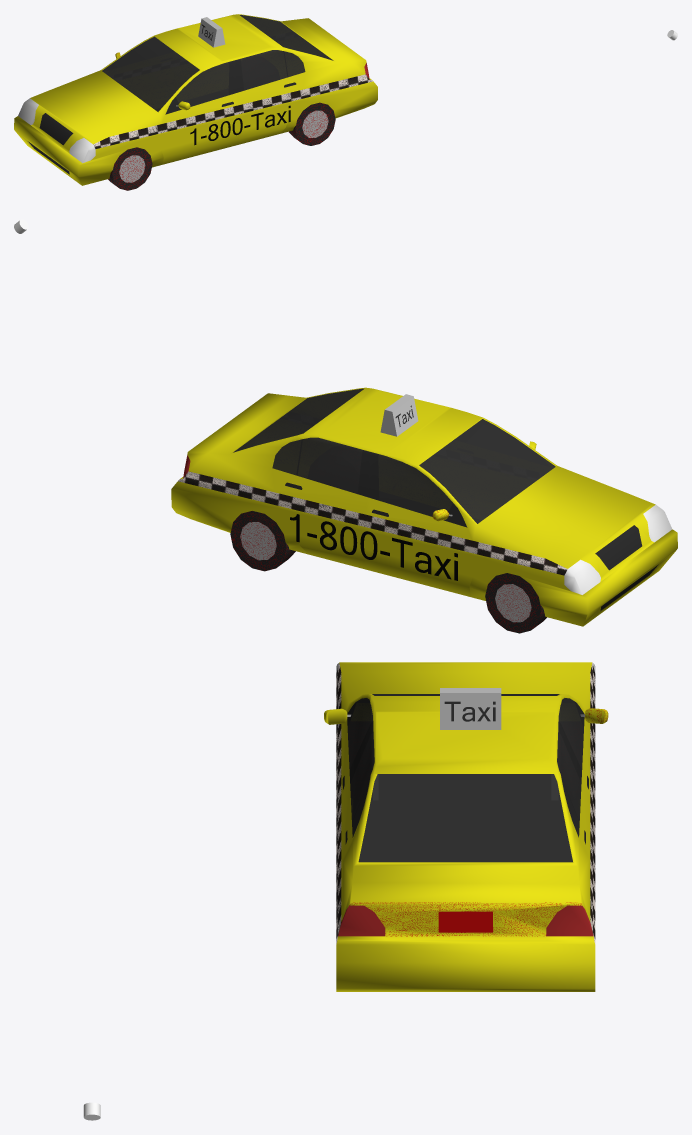
The model's file is taxis.dae.
3 views of the same model, one above another, from view 1: azimuth 30°, elevation 25°; view 2: azimuth 150°, elevation 25°; view 3: azimuth 270°, elevation 25° (orthographic). The views are drawn at different scales.
Parts seen in each view (by area): view 1: TAXI_1 (×12), car_wheel_1 (×3); view 2: TAXI_1 (×11), car_wheel_1 (×2); view 3: TAXI_1 (×13).
Part boxes in pixels (left/top/right/bottom): TAXI_1 (×12): left=14, top=14, right=377, bottom=185; car_wheel_1 (×3): left=108, top=102, right=335, bottom=190; TAXI_1 (×11): left=171, top=387, right=677, bottom=626; car_wheel_1 (×2): left=230, top=511, right=546, bottom=633; TAXI_1 (×13): left=336, top=662, right=595, bottom=991.
Bounding box in the file's own units: 338 × 143 × 68.71.
11 materials, 1 textured.
